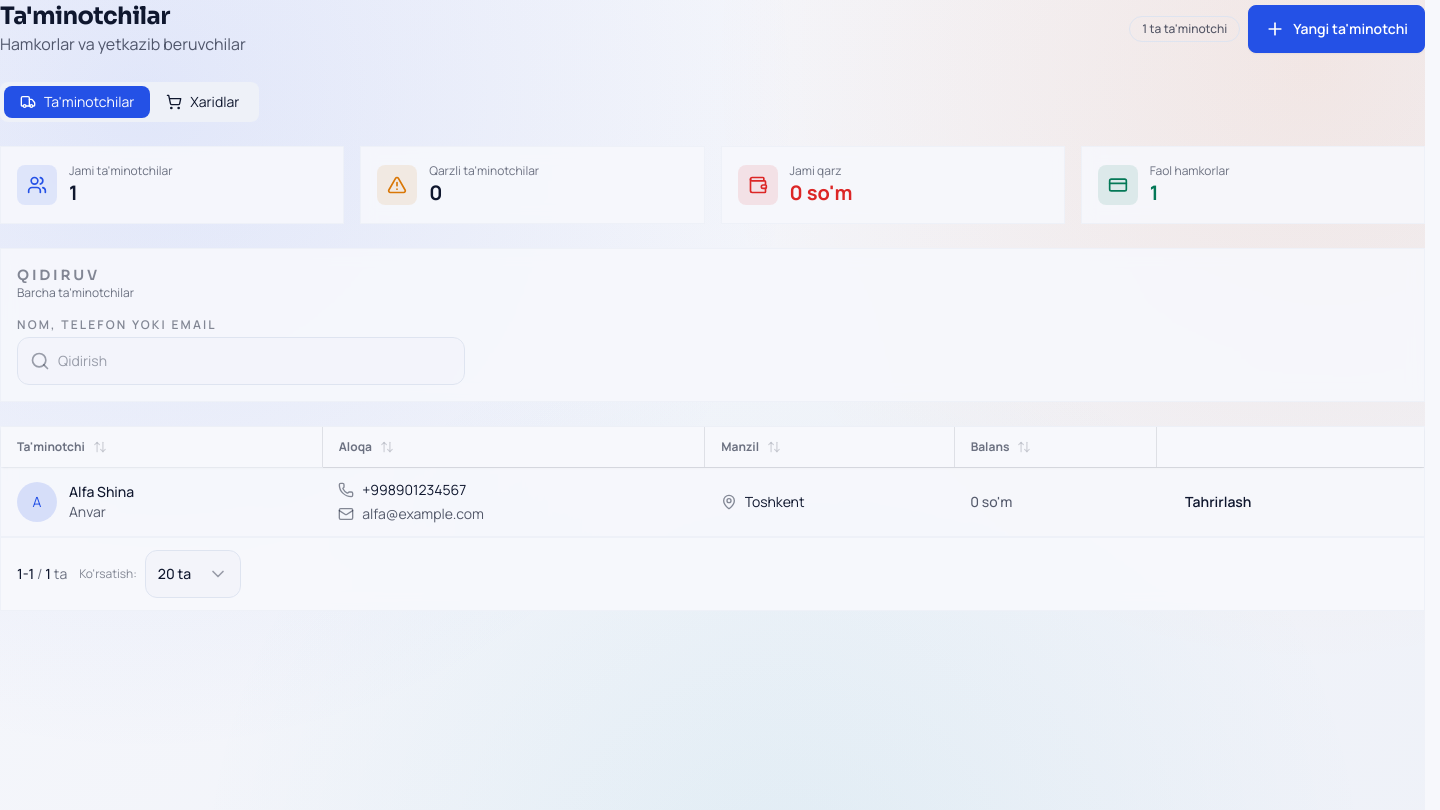
Test: SuppliersPage › tahrirlashda forma ta'minotchi ma'lumoti bilan to'ladi
Expected: the text "Alfa Shina" is shown, [69,482,134,502]
Click the button "Tahrirlash" at (1218, 502), box [1172,486,1264,518]
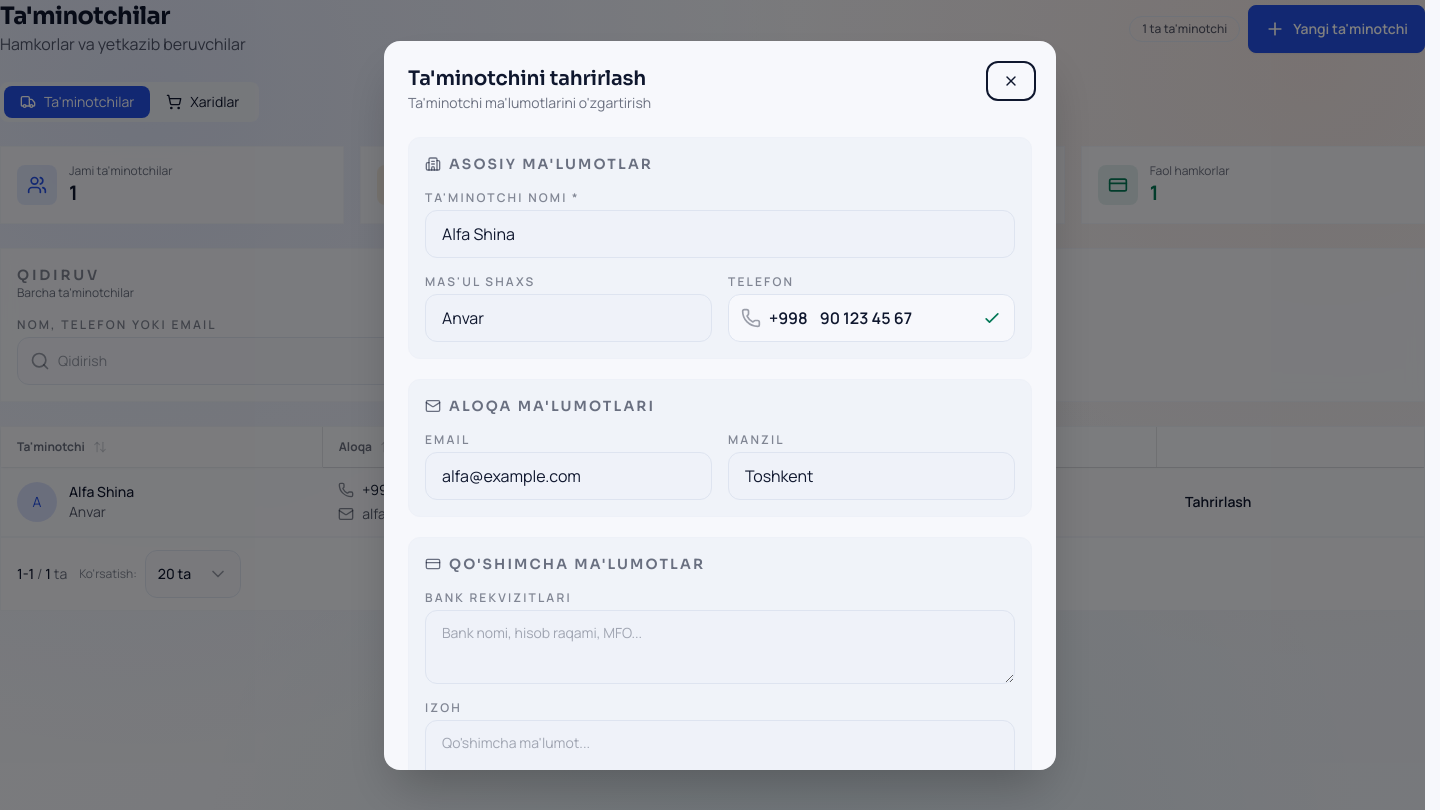
Expected: the field with placeholder "Kompaniya nomi" holds "Alfa Shina", [425,210,1015,258]
